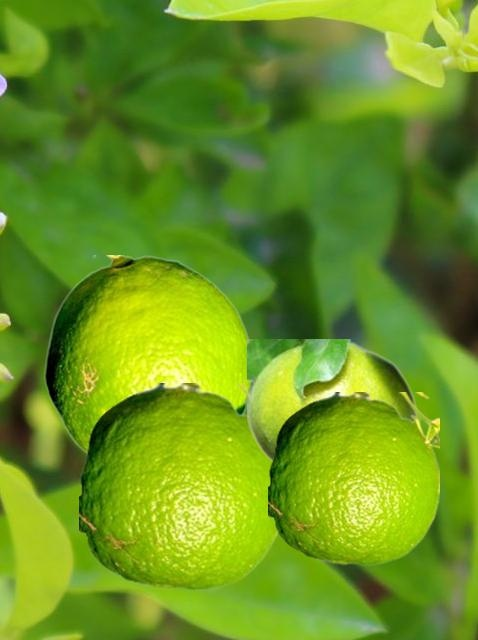dalandan: (44, 255, 251, 455), (79, 383, 277, 589), (268, 392, 438, 564), (247, 339, 417, 461)
